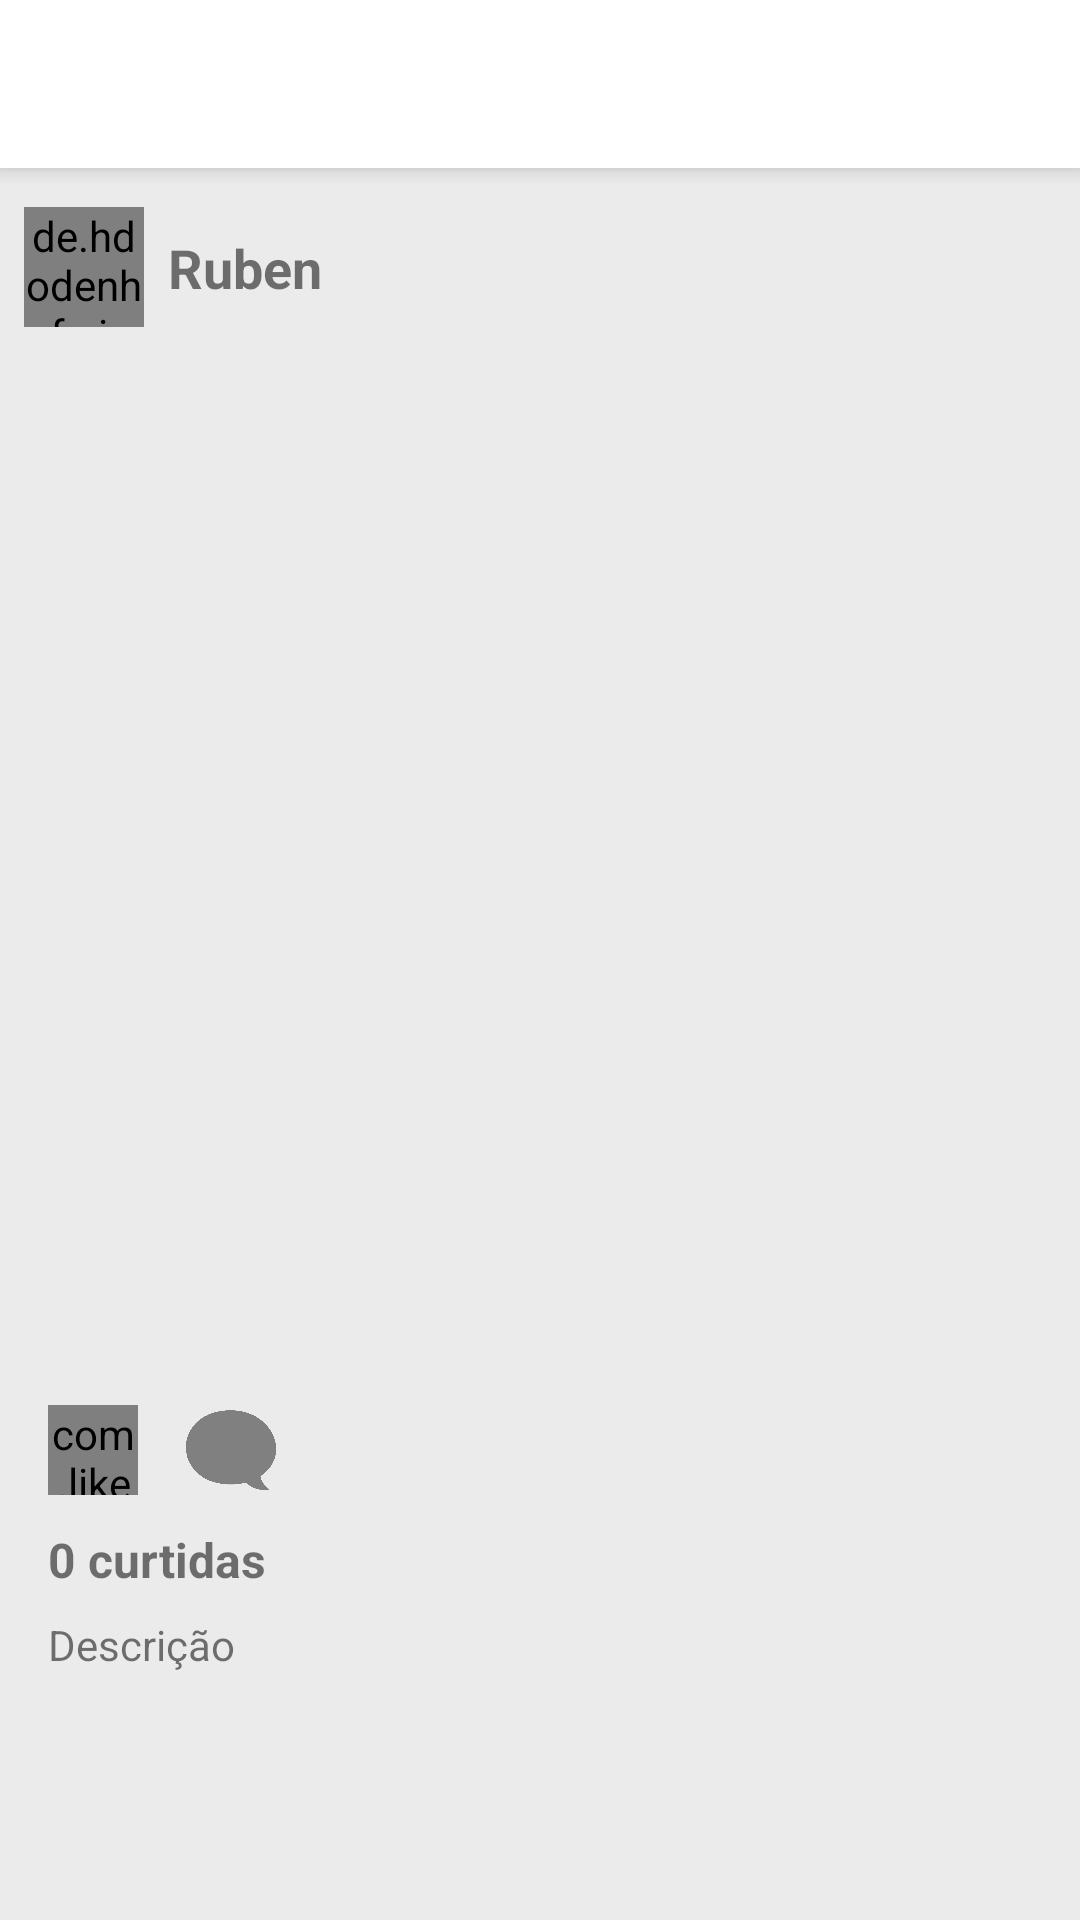

Point at icon controls on the screen. Image size 1080 x 1920, points as (x,y).
comente: (231,1450)
